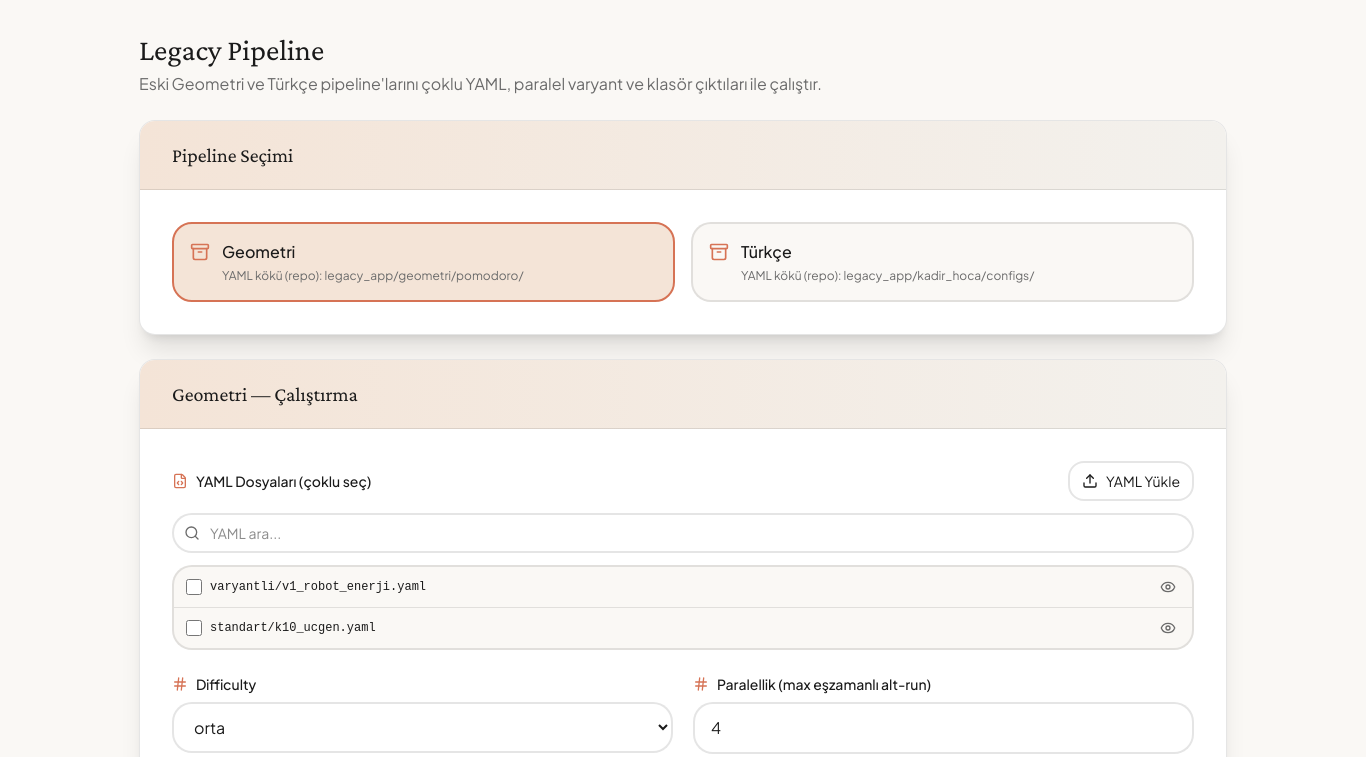
LegacyPipelinePage › Listeden çıkar butonu seçili YAML'ı kaldırır ve totalRuns sıfırlanır
Click the checkbox named "YAML seç: varyantli/v1_robot_enerji.yaml".
click(194, 587)  # box x1=186 y1=579 x2=202 y2=595
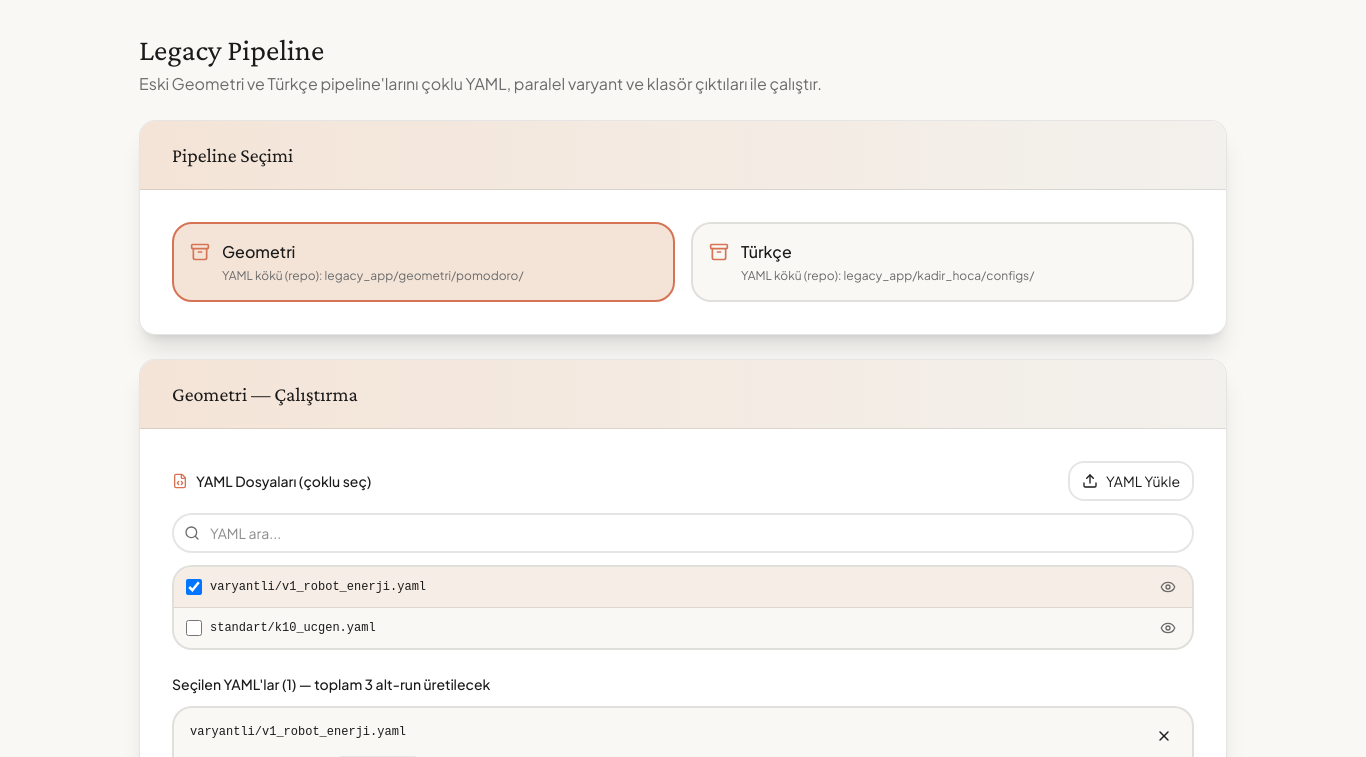
Result: the text "Seçilen YAML'lar (1) — toplam 3 alt-run üretilecek" is shown at x1=172 y1=675 x2=490 y2=693
Click the button named "Listeden çıkar".
click(1164, 736)  # box x1=1152 y1=724 x2=1176 y2=748
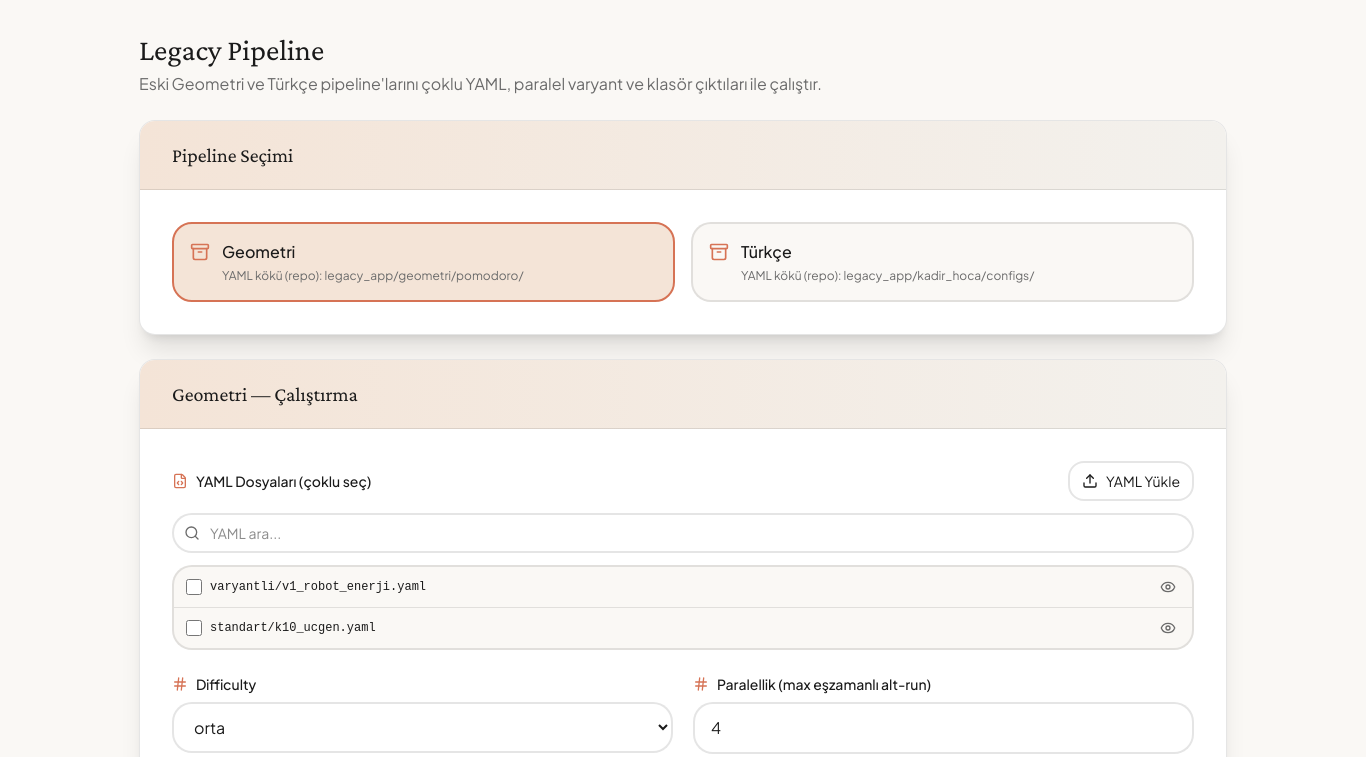
Result: the text "Seçilen YAML'lar" is gone
